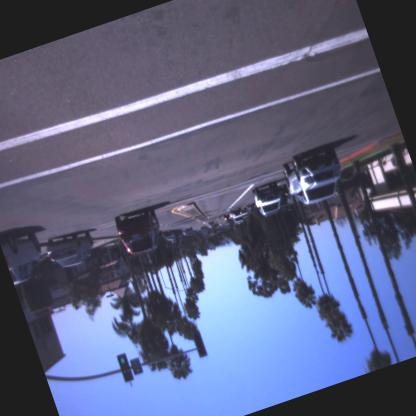trafficlight: (114, 351, 136, 384)
